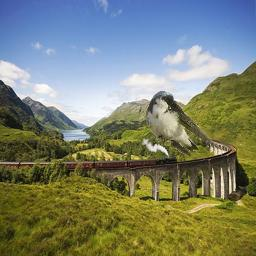Swallow: (144, 90, 224, 157)
